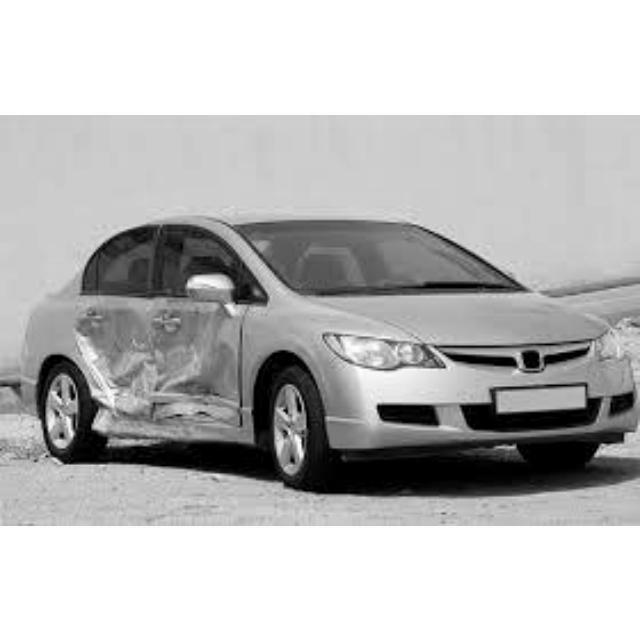Runningboard-Damage: (96, 413, 244, 445)
doorouter-dent: (160, 263, 246, 432), (78, 261, 151, 416)
